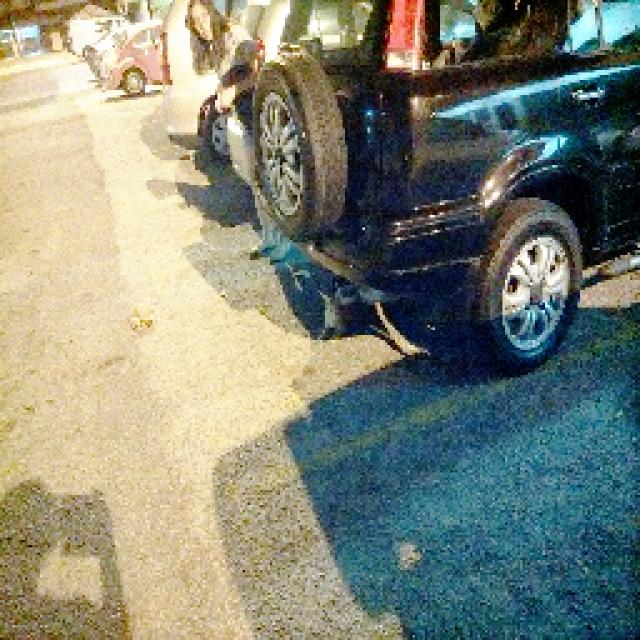cat: (312, 280, 370, 338)
